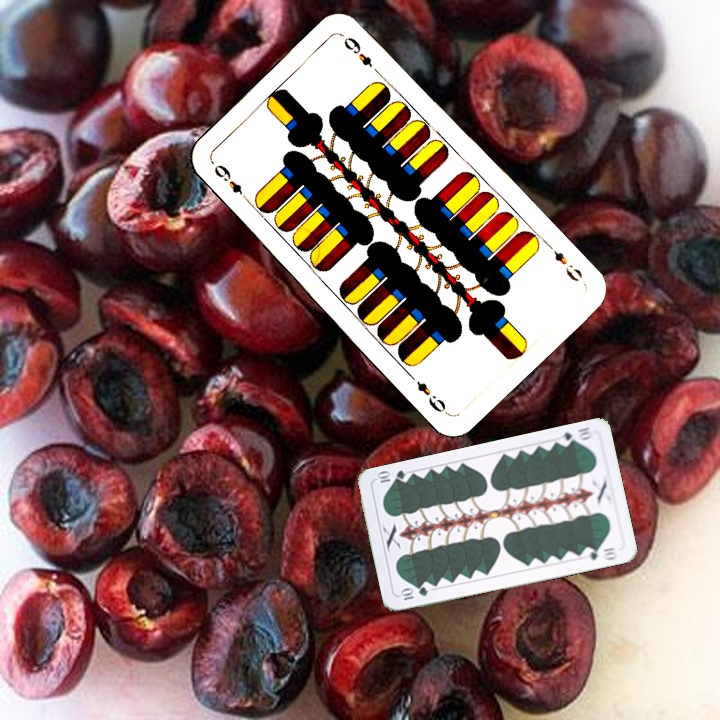E9: (542, 239, 586, 284), (210, 160, 252, 205)
G10: (554, 423, 596, 449), (396, 583, 430, 603)
